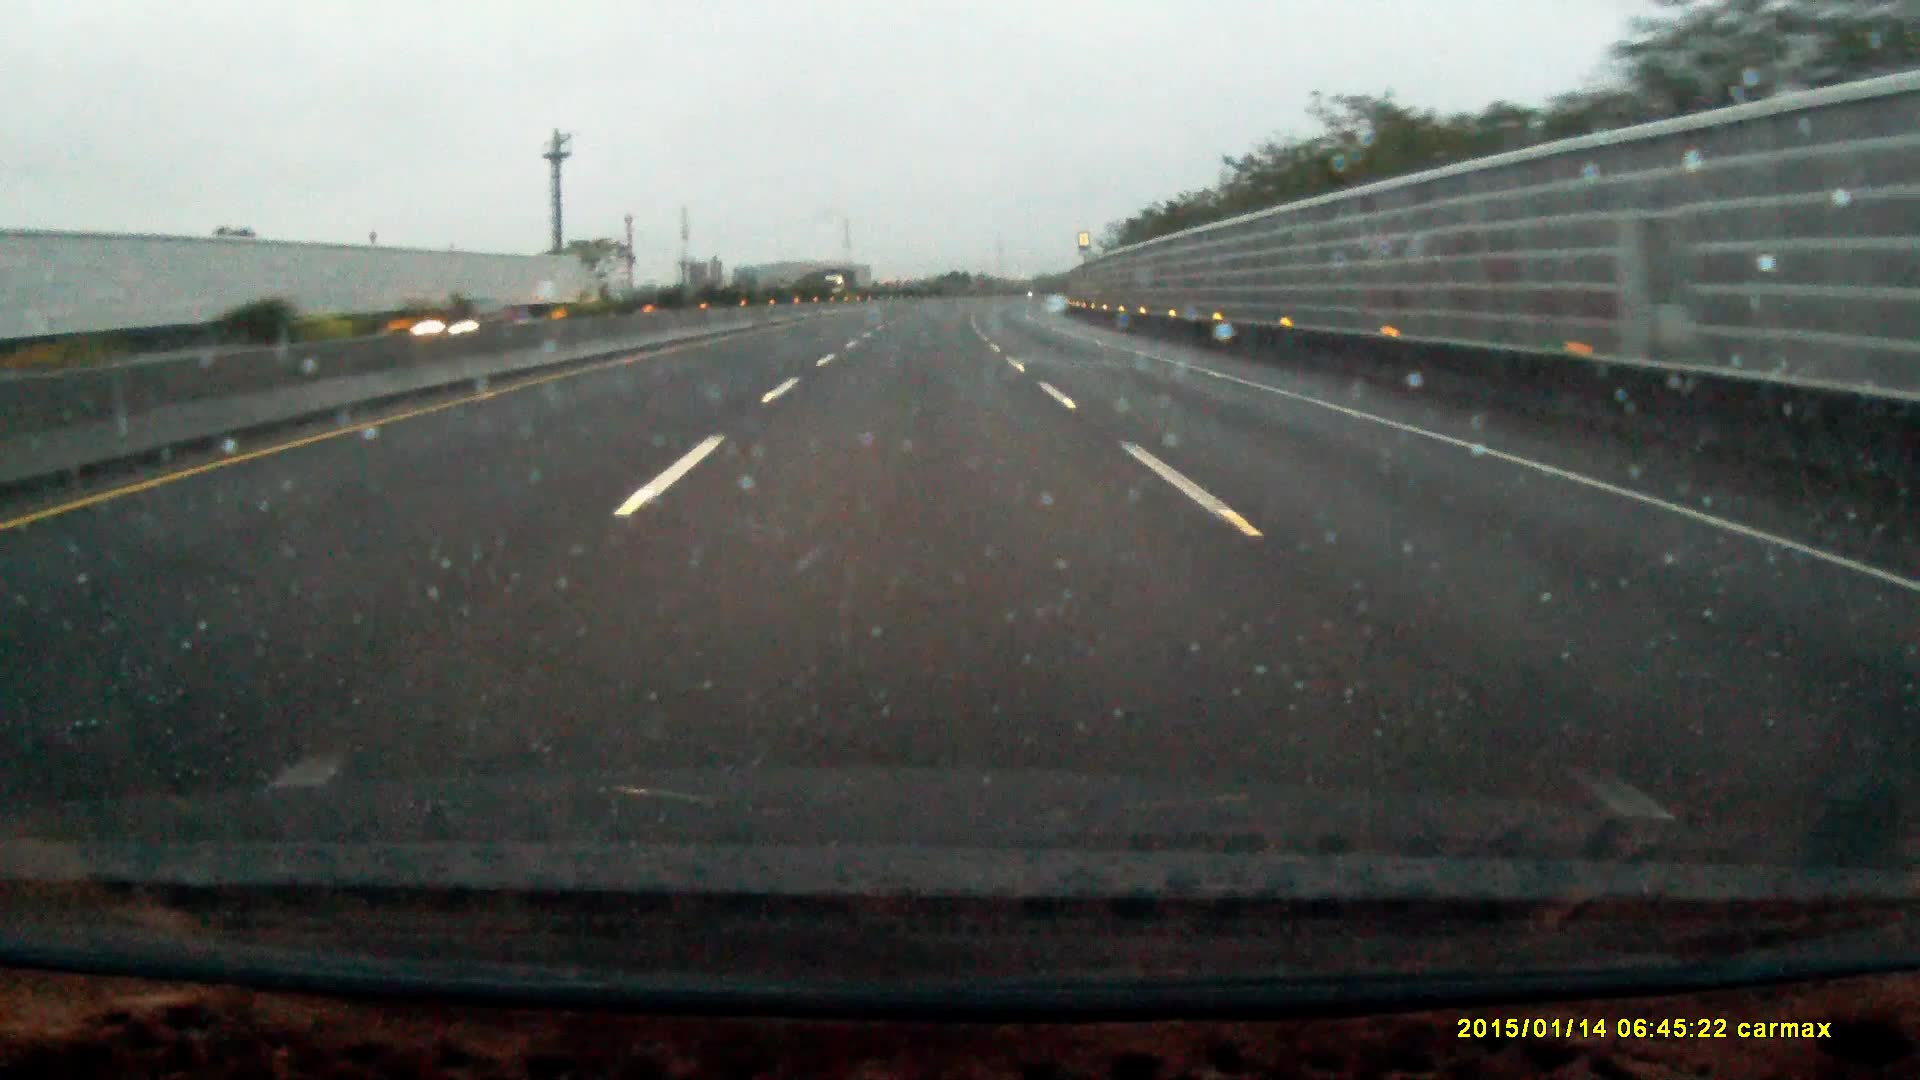vehicle: (407, 297, 522, 357), (822, 266, 857, 305)
